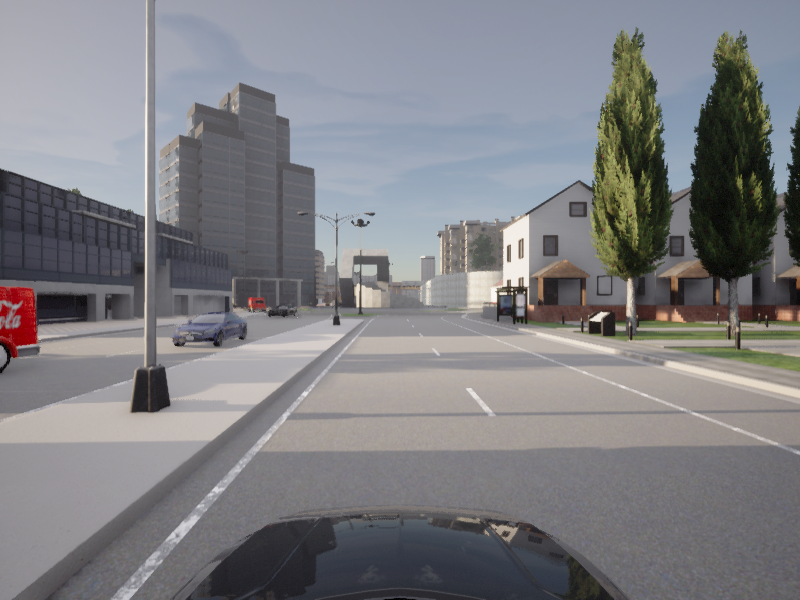vehicle: (0, 274, 45, 423), (166, 310, 252, 349), (264, 302, 300, 318)
